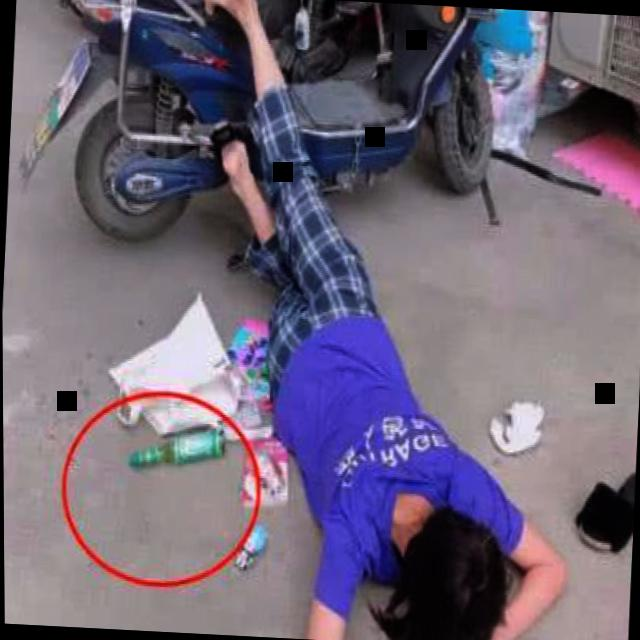Fall-Detected: (136, 0, 591, 640)
